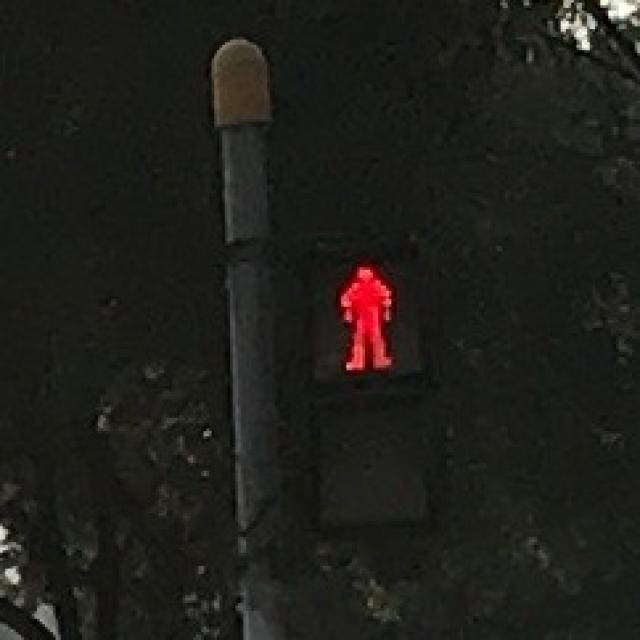red_light: (307, 244, 426, 384)
